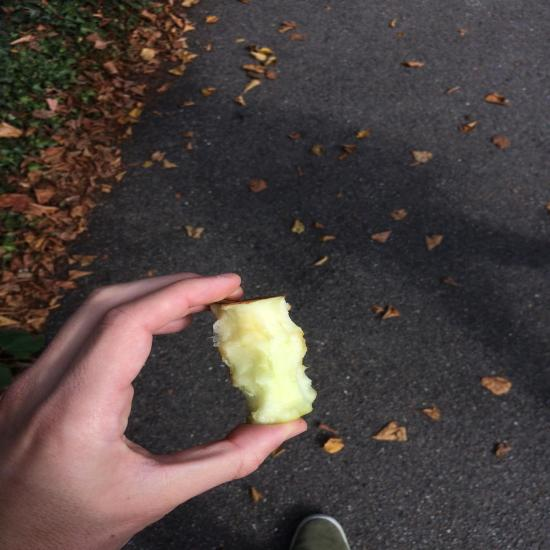Food waste: (207, 295, 318, 425)
